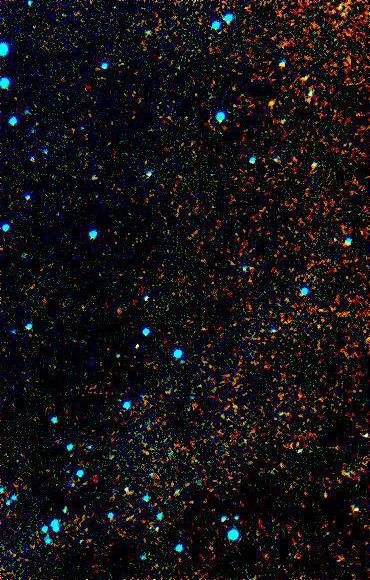star: (257, 89, 287, 119)
